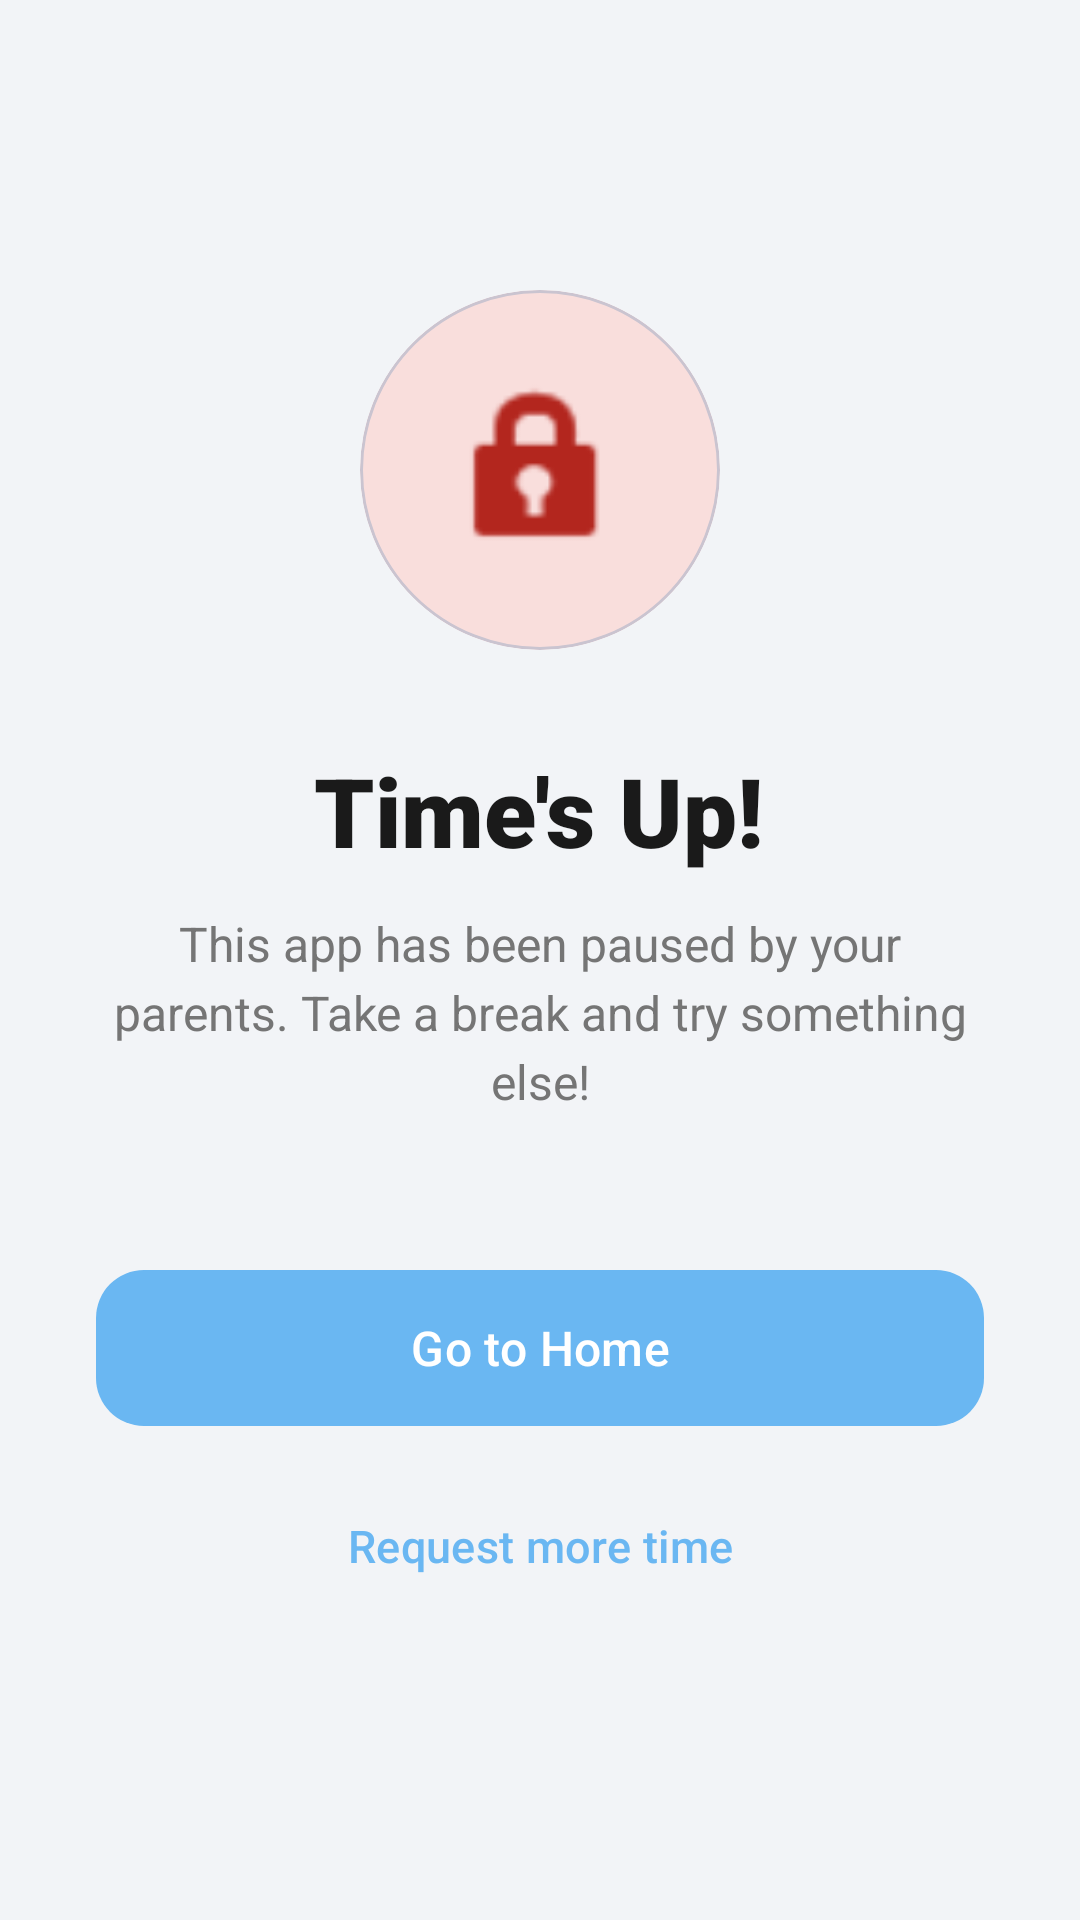

Icons on this 1080*1920 Android screen, each with the point to tap as [x,y]:
lock idle: [535,463]
